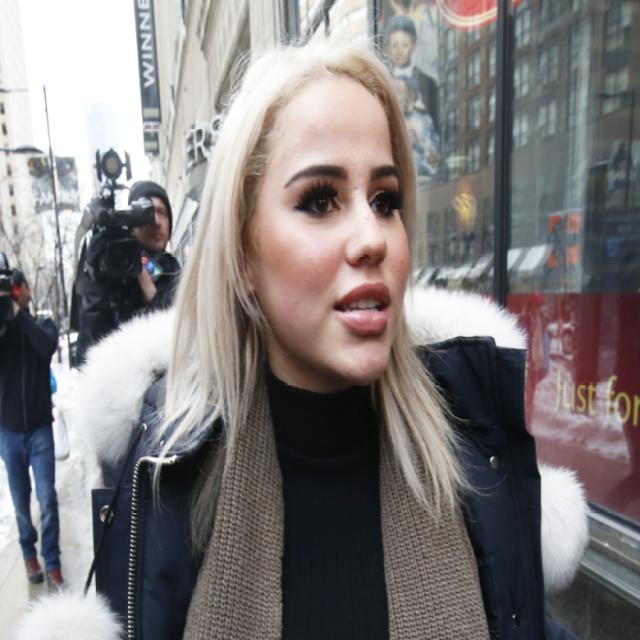human: (96, 62, 580, 640)
